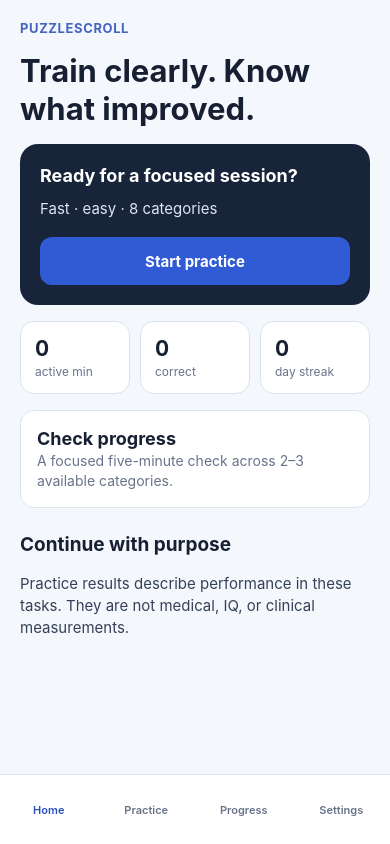
Test: rendered session flow › A06/F02: quick check explains its fixed protocol and prepares only three visible selected domains
Click the button "Check progress".
click(195, 459)  # box 20,410 -> 370,508
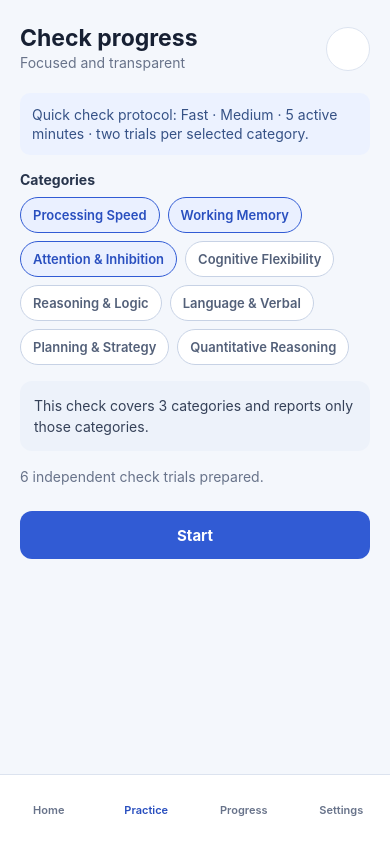
Now the text "Quick check protocol: Fast" is shown, box 32,106 -> 341,142
Now the text "6 independent check trials prepared." is shown, box 20,468 -> 264,485
Click the button "Start".
click(195, 535)  # box 20,511 -> 370,559
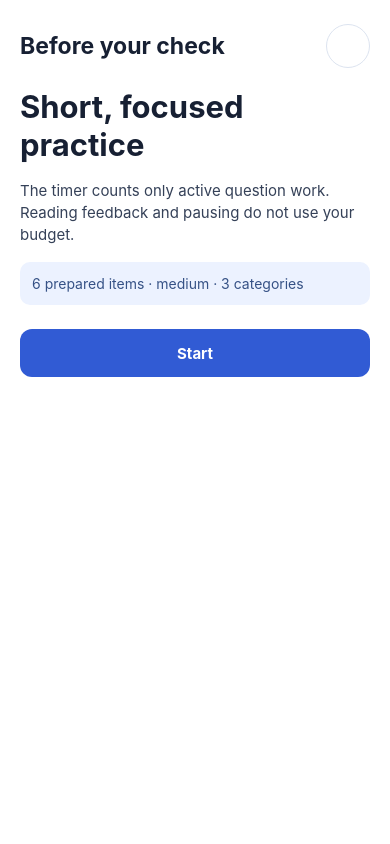
Now the text "Before your check" is shown, box 20,32 -> 225,60
